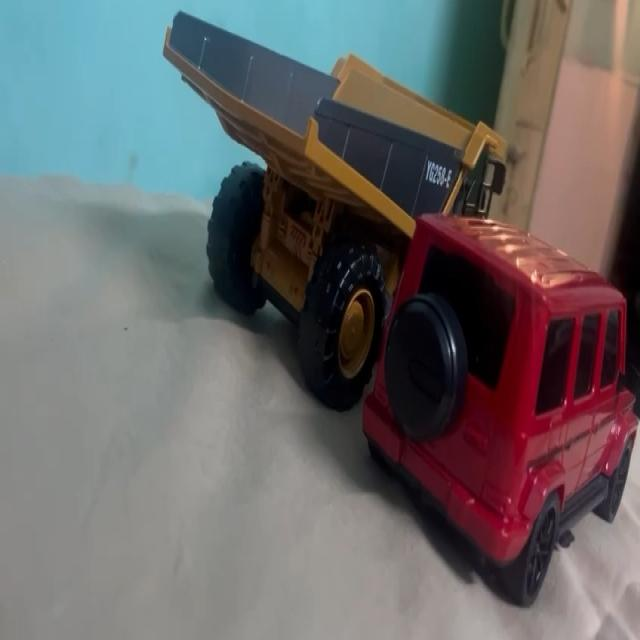dump_truck: (165, 4, 371, 396)
light_vehicle: (377, 207, 640, 579)
